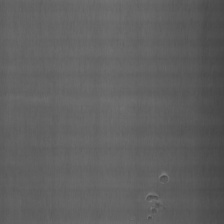rolled_pit: (157, 160, 172, 186), (143, 204, 162, 223), (144, 189, 161, 204)
